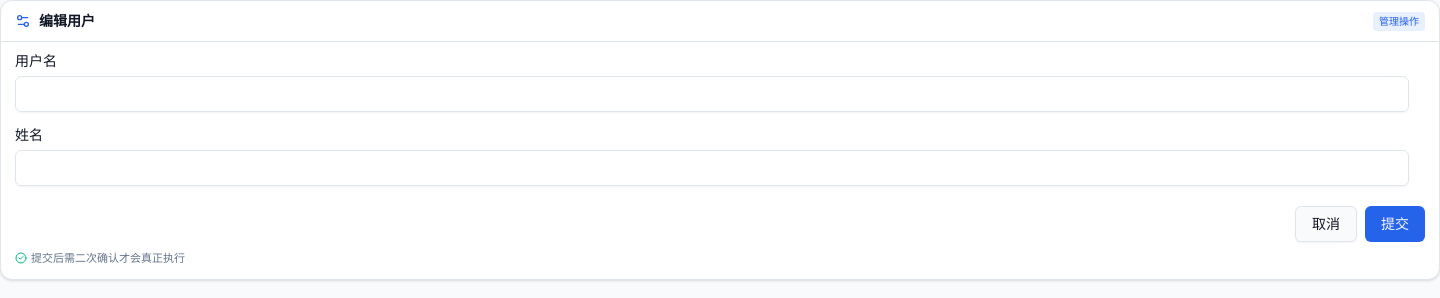
manage_form 卡（受控管理操作） › .update 操作：提交体带 targetId
Click the button "提交" at [1395, 224], box [1365,206,1425,242]
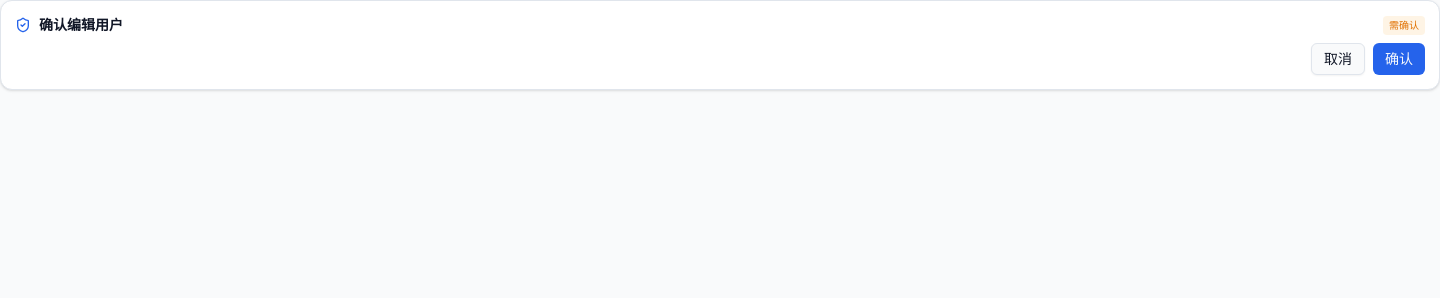
Result: the text "确认编辑用户" is shown at [39,16,123,33]
